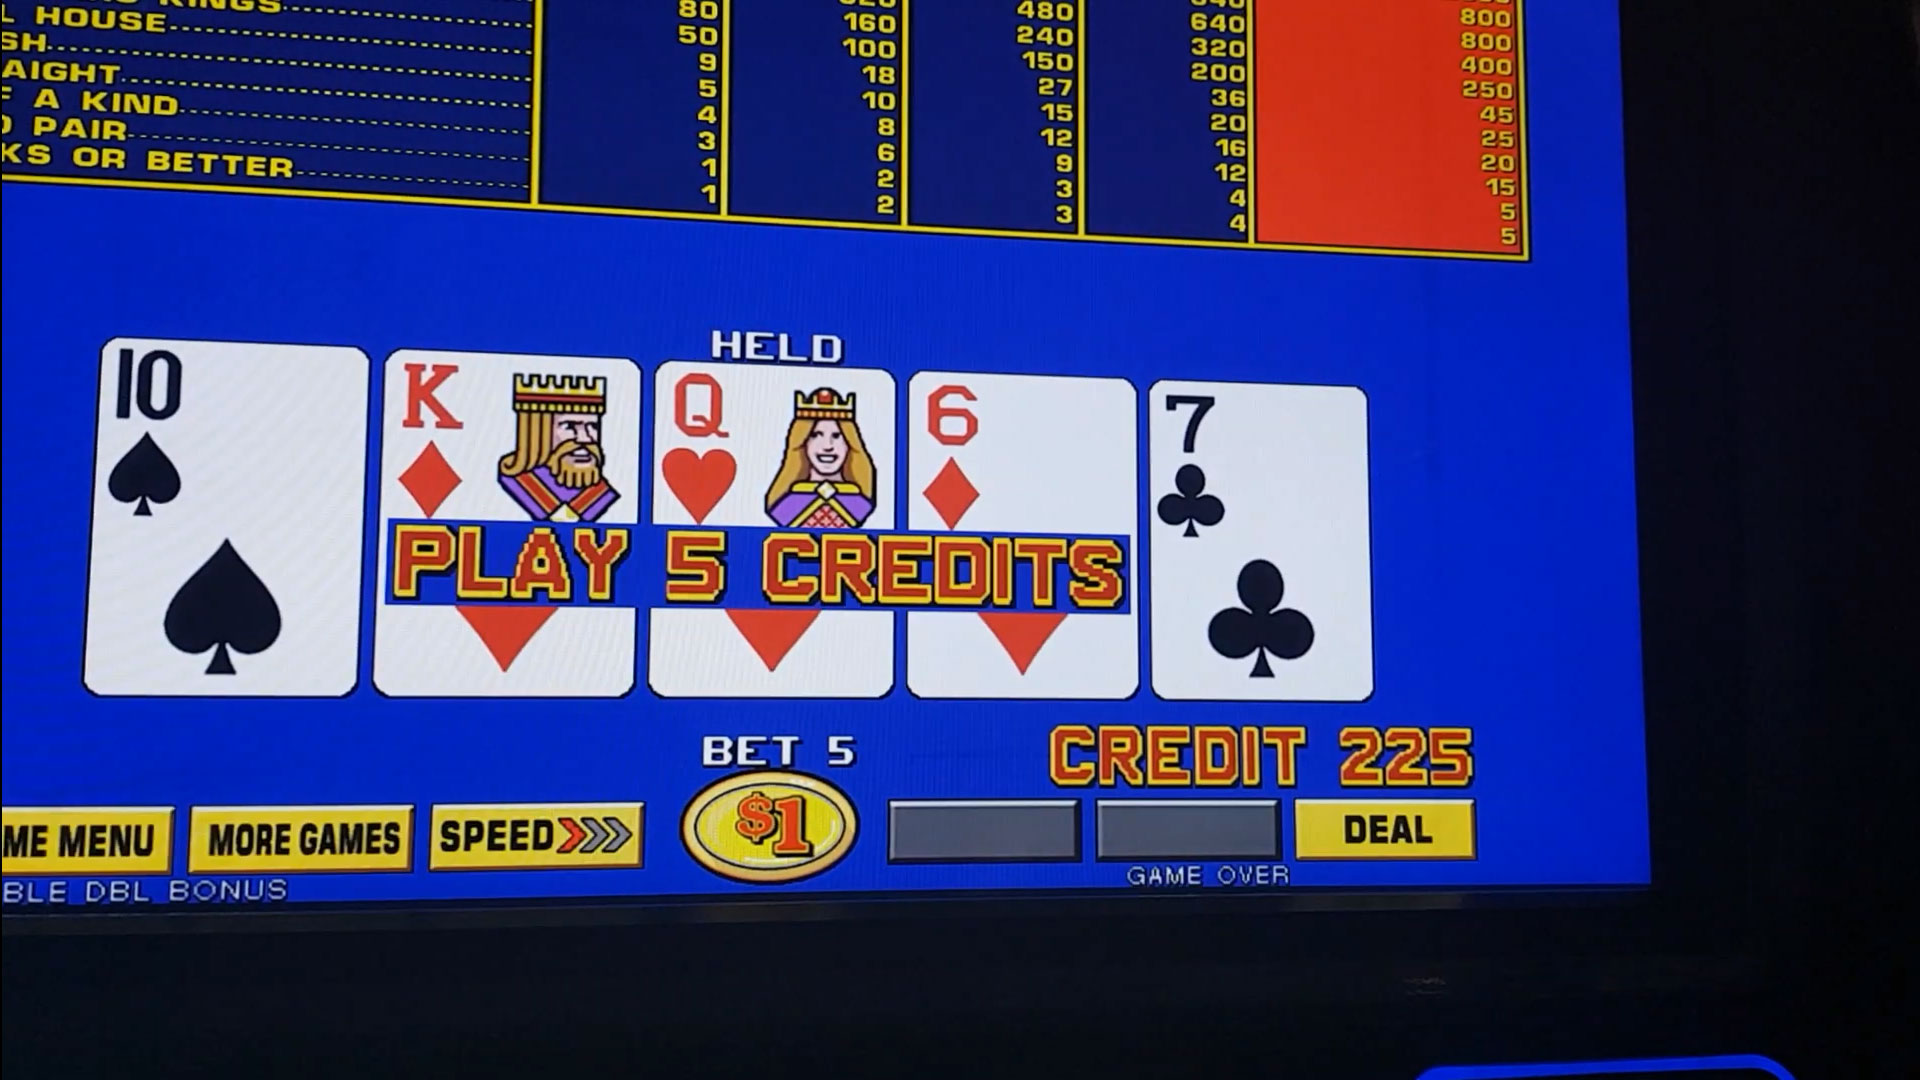C7: (1153, 392, 1364, 542)
D6: (911, 386, 1131, 527)
DK: (392, 363, 636, 524)
HQ: (657, 375, 890, 520)
ST: (108, 351, 360, 524)
